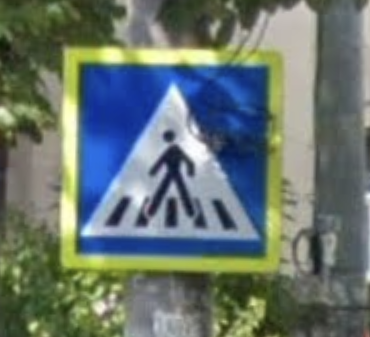trecere_pietoni: (60, 41, 285, 279)
